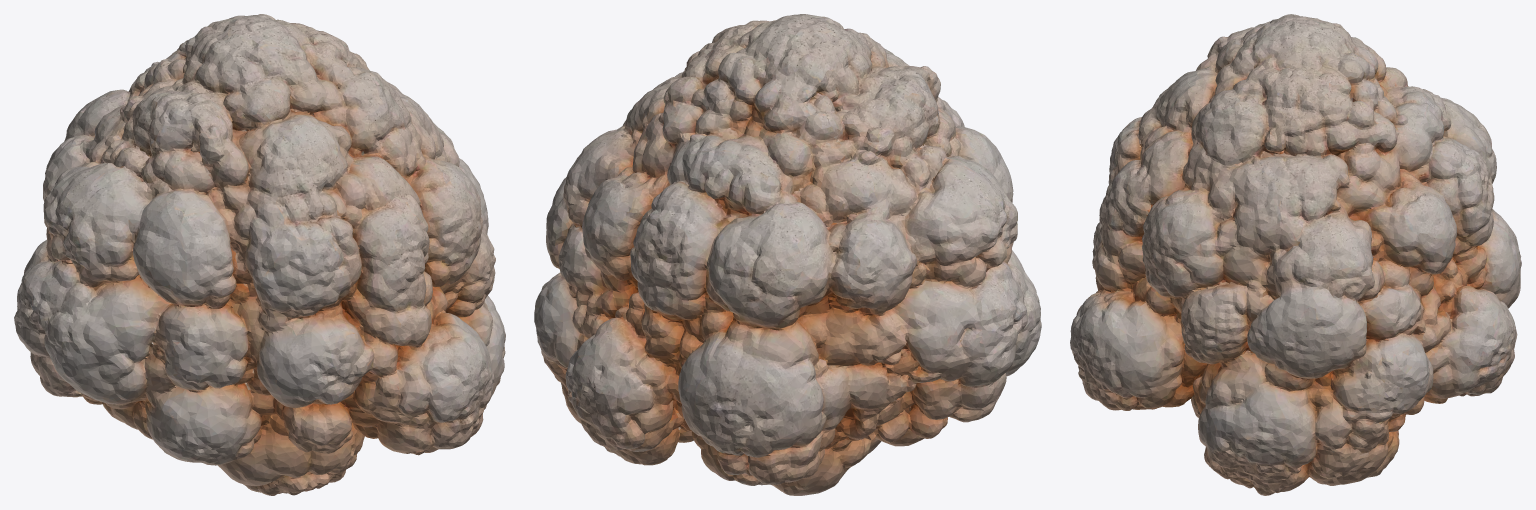
The model's file is head (45).glb.
The picture shows the model from 3 angles, left to right: view 1: azimuth 30°, elevation 25°; view 2: azimuth 150°, elevation 25°; view 3: azimuth 270°, elevation 25°; orthographic projection. The views are drawn at different scales.
Parts seen in each view (by area): view 1: Hy21_Mesh.obj; view 2: Hy21_Mesh.obj; view 3: Hy21_Mesh.obj.
Boxes of the visible parts, x1,y1,x2,y2 form: Hy21_Mesh.obj: (14,14,505,495); Hy21_Mesh.obj: (534,14,1041,495); Hy21_Mesh.obj: (1070,14,1521,495).
Size of the model in its own units: 1.9 by 1.83 by 1.81.
1 material, 1 textured.
